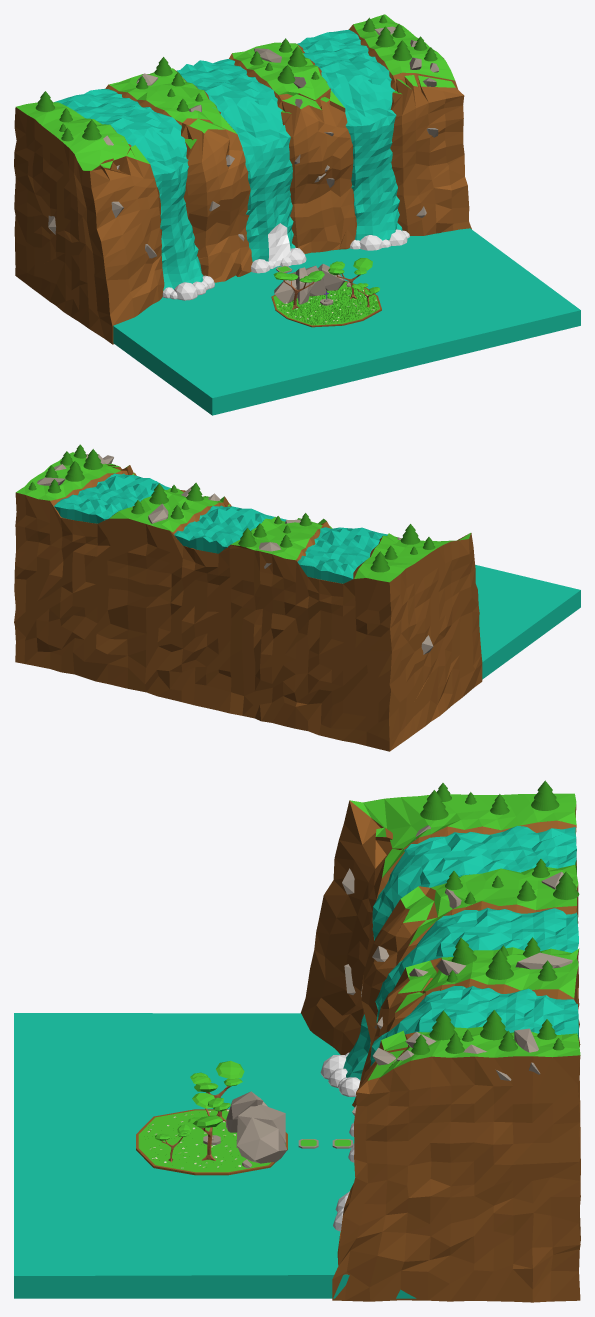
The model's file is waterfall.glb.
3 renders of one model, top to bottom at view 1: azimuth 30°, elevation 25°; view 2: azimuth 150°, elevation 25°; view 3: azimuth 270°, elevation 25°, orthographic. The views are drawn at different scales.
Visible parts, largest first — view 1: mountain, Plane.226, water.001, water, water.002, pinecones, island, Plane.001, pien, pien.001; view 2: mountain, Plane.226, pinecones, water.002, water.001, water; view 3: mountain, Plane.226, water.002, pinecones, water, water.001, island, boulder3, pien, pien.001, boulder2, boulder1.
Boxes of the visible parts, x1,y1,x2,y2 form: mountain: (14, 14, 471, 344); Plane.226: (113, 228, 580, 415); water.001: (297, 29, 402, 240); water: (176, 59, 295, 266); water.002: (54, 88, 203, 290); pinecones: (35, 15, 437, 141); island: (271, 281, 381, 327); Plane.001: (279, 287, 378, 324); pien: (328, 258, 372, 298); pien.001: (273, 270, 324, 309); mountain: (14, 452, 482, 751); Plane.226: (267, 515, 580, 679); pinecones: (28, 444, 435, 572); water.002: (297, 527, 387, 583); water.001: (54, 473, 170, 523); water: (174, 505, 273, 553); mountain: (301, 793, 580, 1302); Plane.226: (14, 1013, 416, 1298); water.002: (343, 825, 576, 1080); pinecones: (411, 780, 579, 1054); water: (375, 907, 578, 1022); water.001: (370, 986, 578, 1066); island: (136, 1109, 287, 1175); boulder3: (237, 1117, 287, 1163); pien: (188, 1093, 230, 1160); pien.001: (190, 1060, 244, 1121); boulder2: (236, 1104, 285, 1147); boulder1: (226, 1091, 263, 1132).
Bounding box in the file's own units: 193 × 90.82 × 172.
